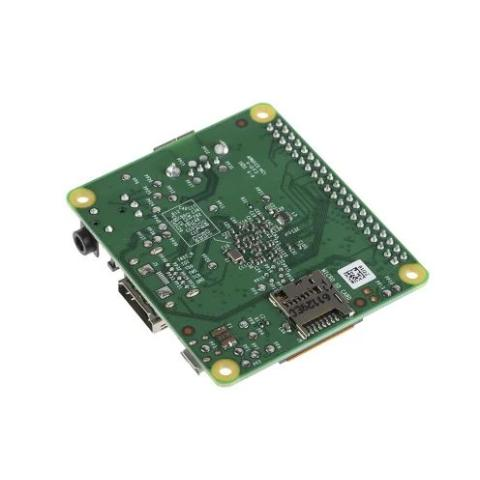Raspberry-Pi-1-Model-A-: (50, 93, 450, 397)
